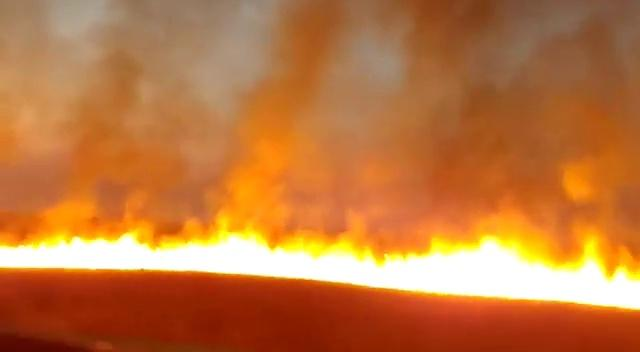fire: (398, 258, 525, 292), (8, 242, 137, 271), (159, 245, 265, 271)
